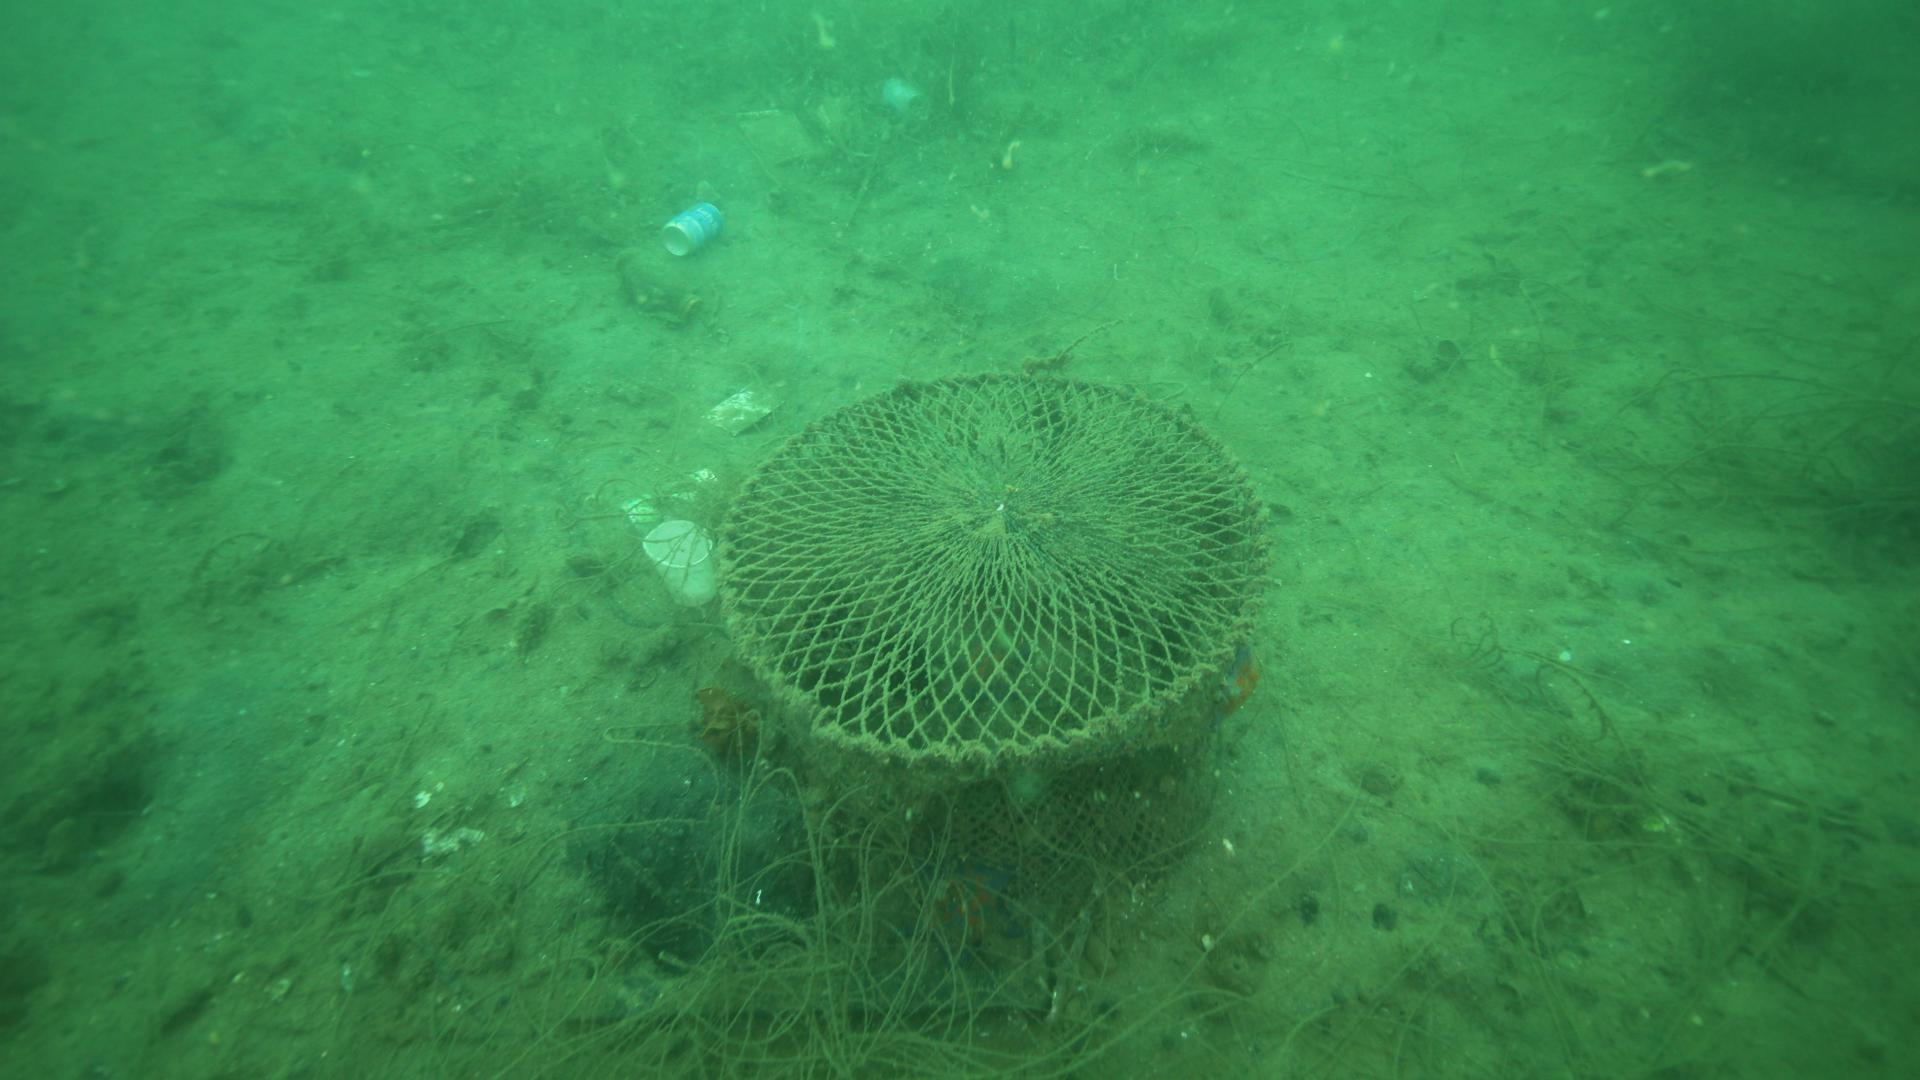circular fish trap: (694, 361, 1274, 815)
